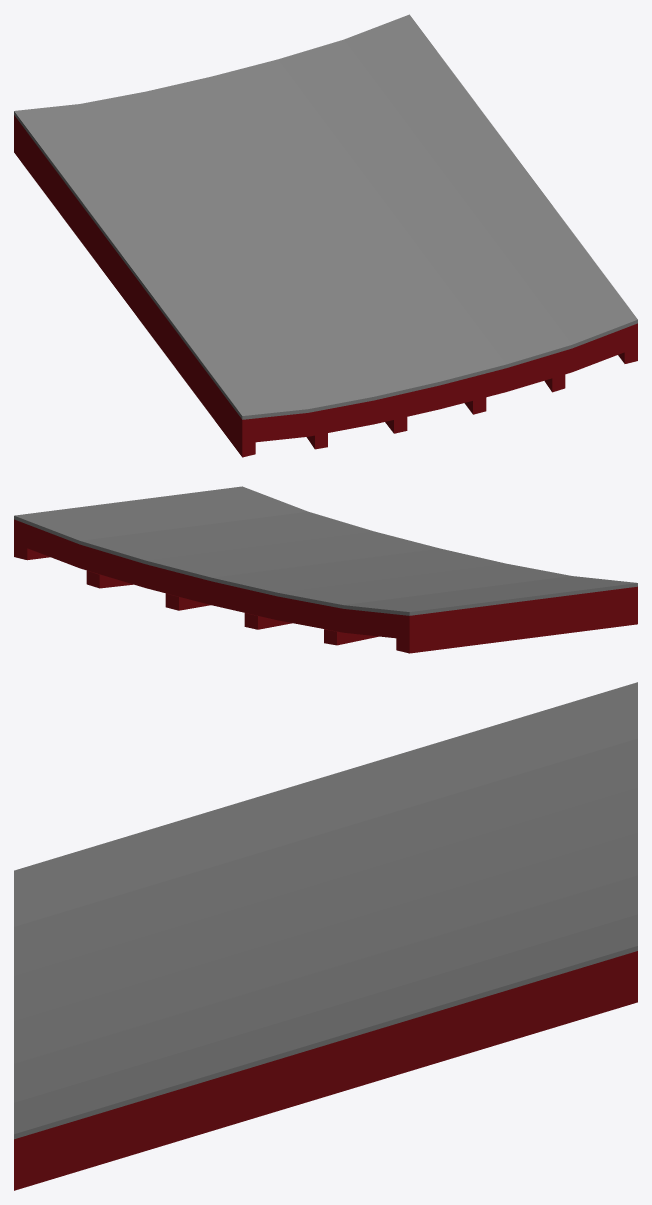
The model's file is SM_MH_01_Slate_Porch_Roof_02.fbx.
The picture shows the model from 3 angles, top to bottom: view 1: azimuth 30°, elevation 25°; view 2: azimuth 150°, elevation 25°; view 3: azimuth 270°, elevation 25°; orthographic projection. The views are drawn at different scales.
Parts seen in each view (by area): view 1: SM_MH_01_Slate_Porch_Roof_02_LOD0; view 2: SM_MH_01_Slate_Porch_Roof_02_LOD0; view 3: SM_MH_01_Slate_Porch_Roof_02_LOD0.
Boxes of the visible parts, left/top/right/bottom form: SM_MH_01_Slate_Porch_Roof_02_LOD0: left=14, top=14, right=637, bottom=457; SM_MH_01_Slate_Porch_Roof_02_LOD0: left=14, top=486, right=637, bottom=653; SM_MH_01_Slate_Porch_Roof_02_LOD0: left=14, top=682, right=637, bottom=1190.
Size of what is drawn, in the model's own units: 300 by 140 by 300.
